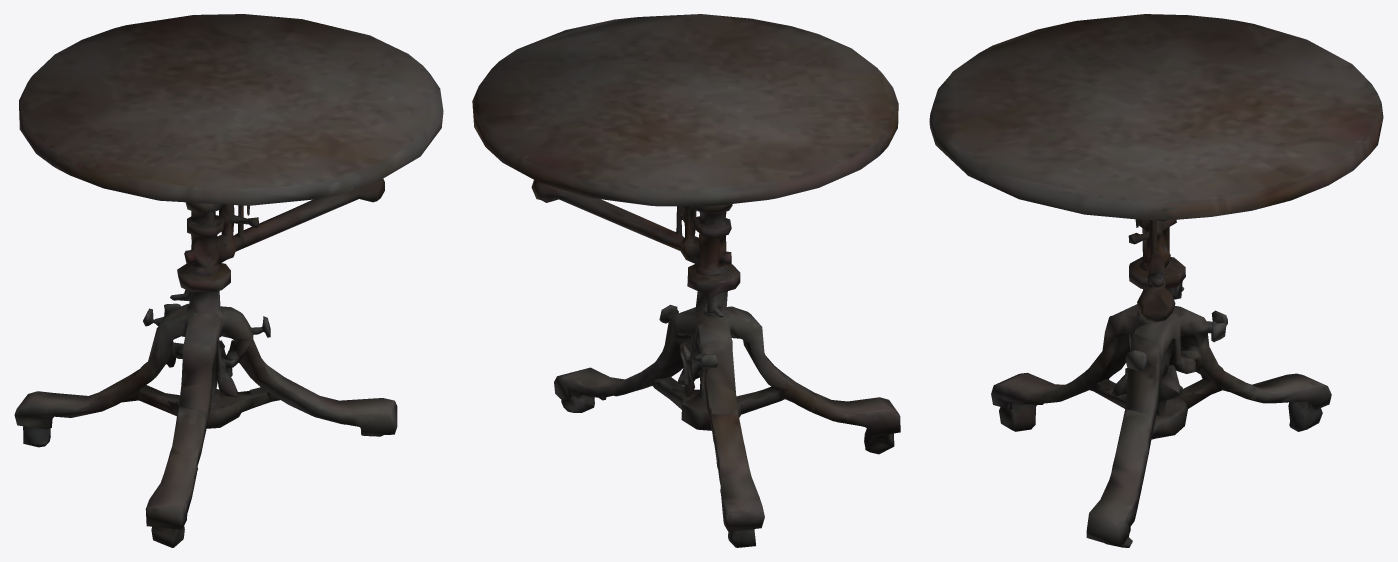
The model's file is plain-iron-operating-table-v001.glb.
The picture shows the model from 3 angles, left to right: view 1: azimuth 30°, elevation 25°; view 2: azimuth 150°, elevation 25°; view 3: azimuth 270°, elevation 25°; orthographic projection. The views are drawn at different scales.
Visible parts, largest first — view 1: plain-iron-operating-table; view 2: plain-iron-operating-table; view 3: plain-iron-operating-table.
Part boxes in pixels (left/top/right/bottom): plain-iron-operating-table: left=14, top=14, right=443, bottom=547; plain-iron-operating-table: left=472, top=14, right=900, bottom=547; plain-iron-operating-table: left=929, top=14, right=1383, bottom=547.
Size of the model in its own units: 0.9772 by 0.9167 by 0.9747.
1 material, 1 textured.
